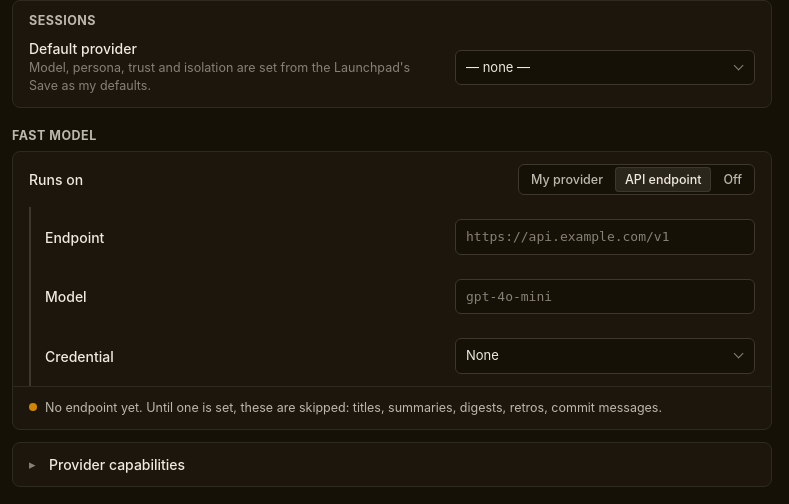
ModelsSection › Fast Model › lists stored credentials in the credential picker
The image size is (789, 504).
What coordinates should you click on to do the following:
click the button named "Credential"
I would click on:
 (482, 355)
Its box is x1=455 y1=338 x2=755 y2=374.
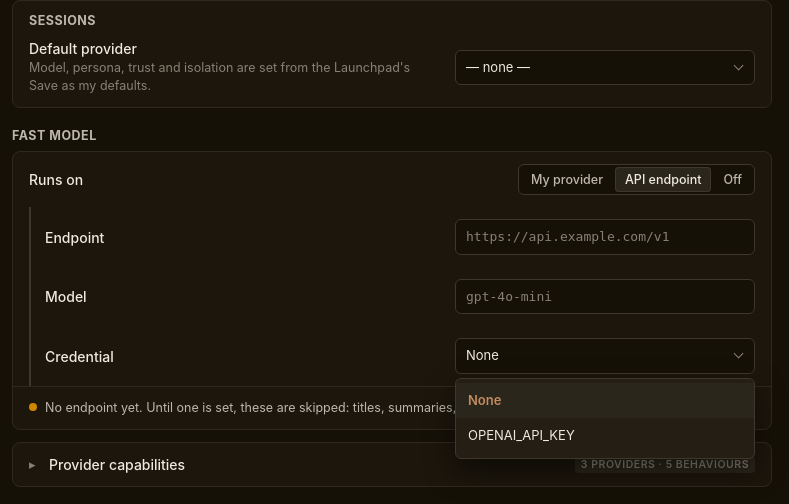
Expected: the option "OPENAI_API_KEY" is shown, x1=468 y1=427 x2=575 y2=443
